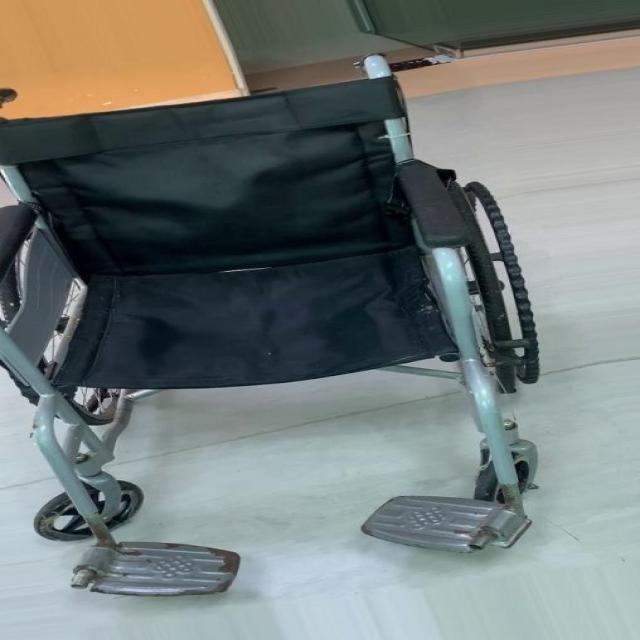wheelchair: (0, 24, 562, 611)
